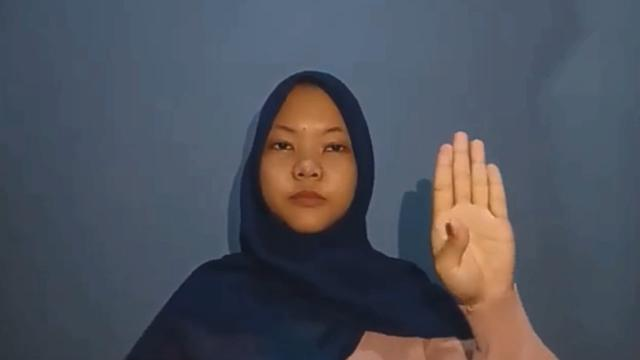B: (432, 131, 516, 301)
